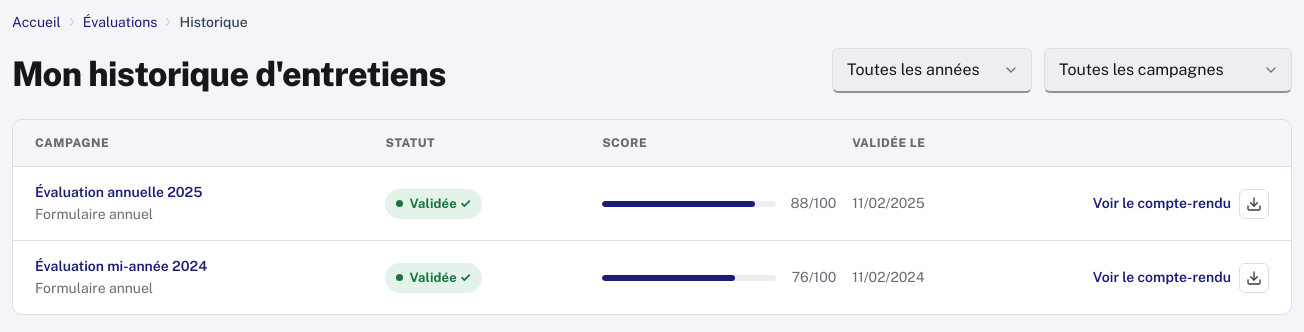
Test: EvaluationHistoryPage › affiche les évaluations validées en cards et filtre par année
This screenshot has width=1304, height=332.
Expected: the heading "Mon historique d'entretiens" is shown, [12,54,446,94]
Expected: the number of links "Voir le compte-rendu" is 2, [1093,193,1231,214]; [1093,267,1231,288]
Step 1. Select "2024" in the dropdown named "Filtrer par année" → coordinates (932, 70), box [832,48,1032,93]
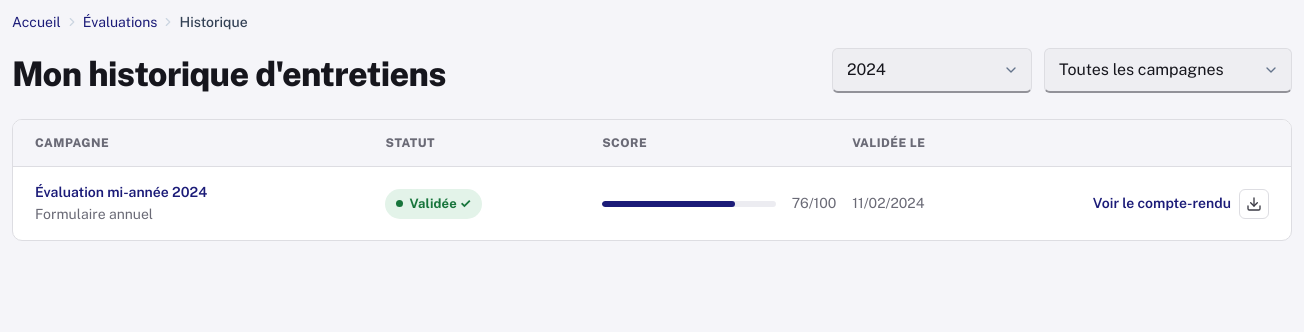
Expected: the number of links "Voir le compte-rendu" is 1, [1093,193,1231,214]
